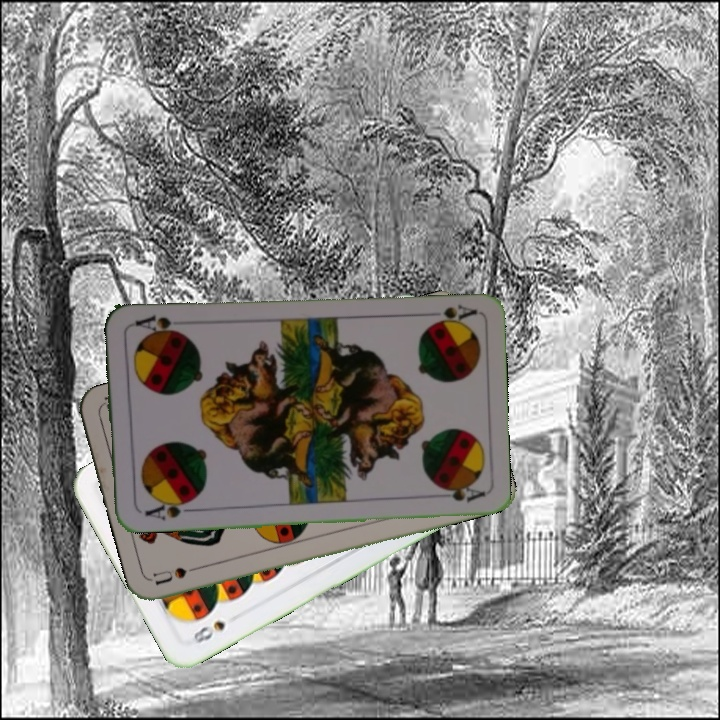S8: (189, 616, 228, 646)
SA: (419, 301, 479, 329), (140, 495, 194, 523)
SU: (151, 560, 209, 588)
